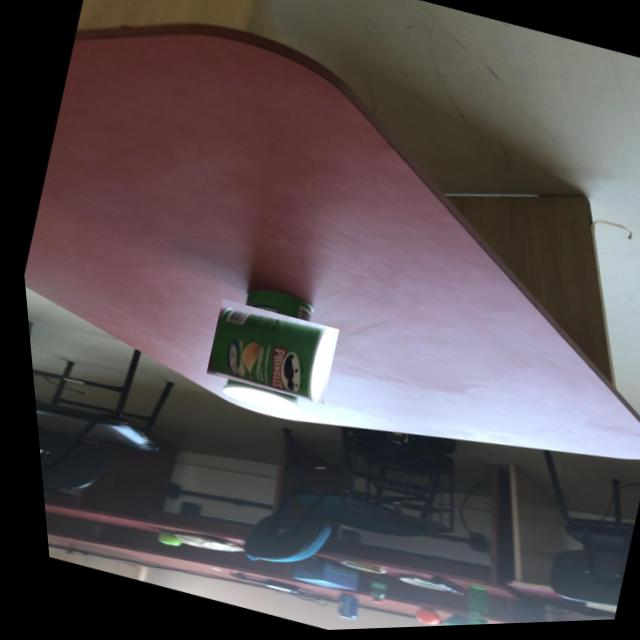a pringles: (199, 290, 331, 416)
